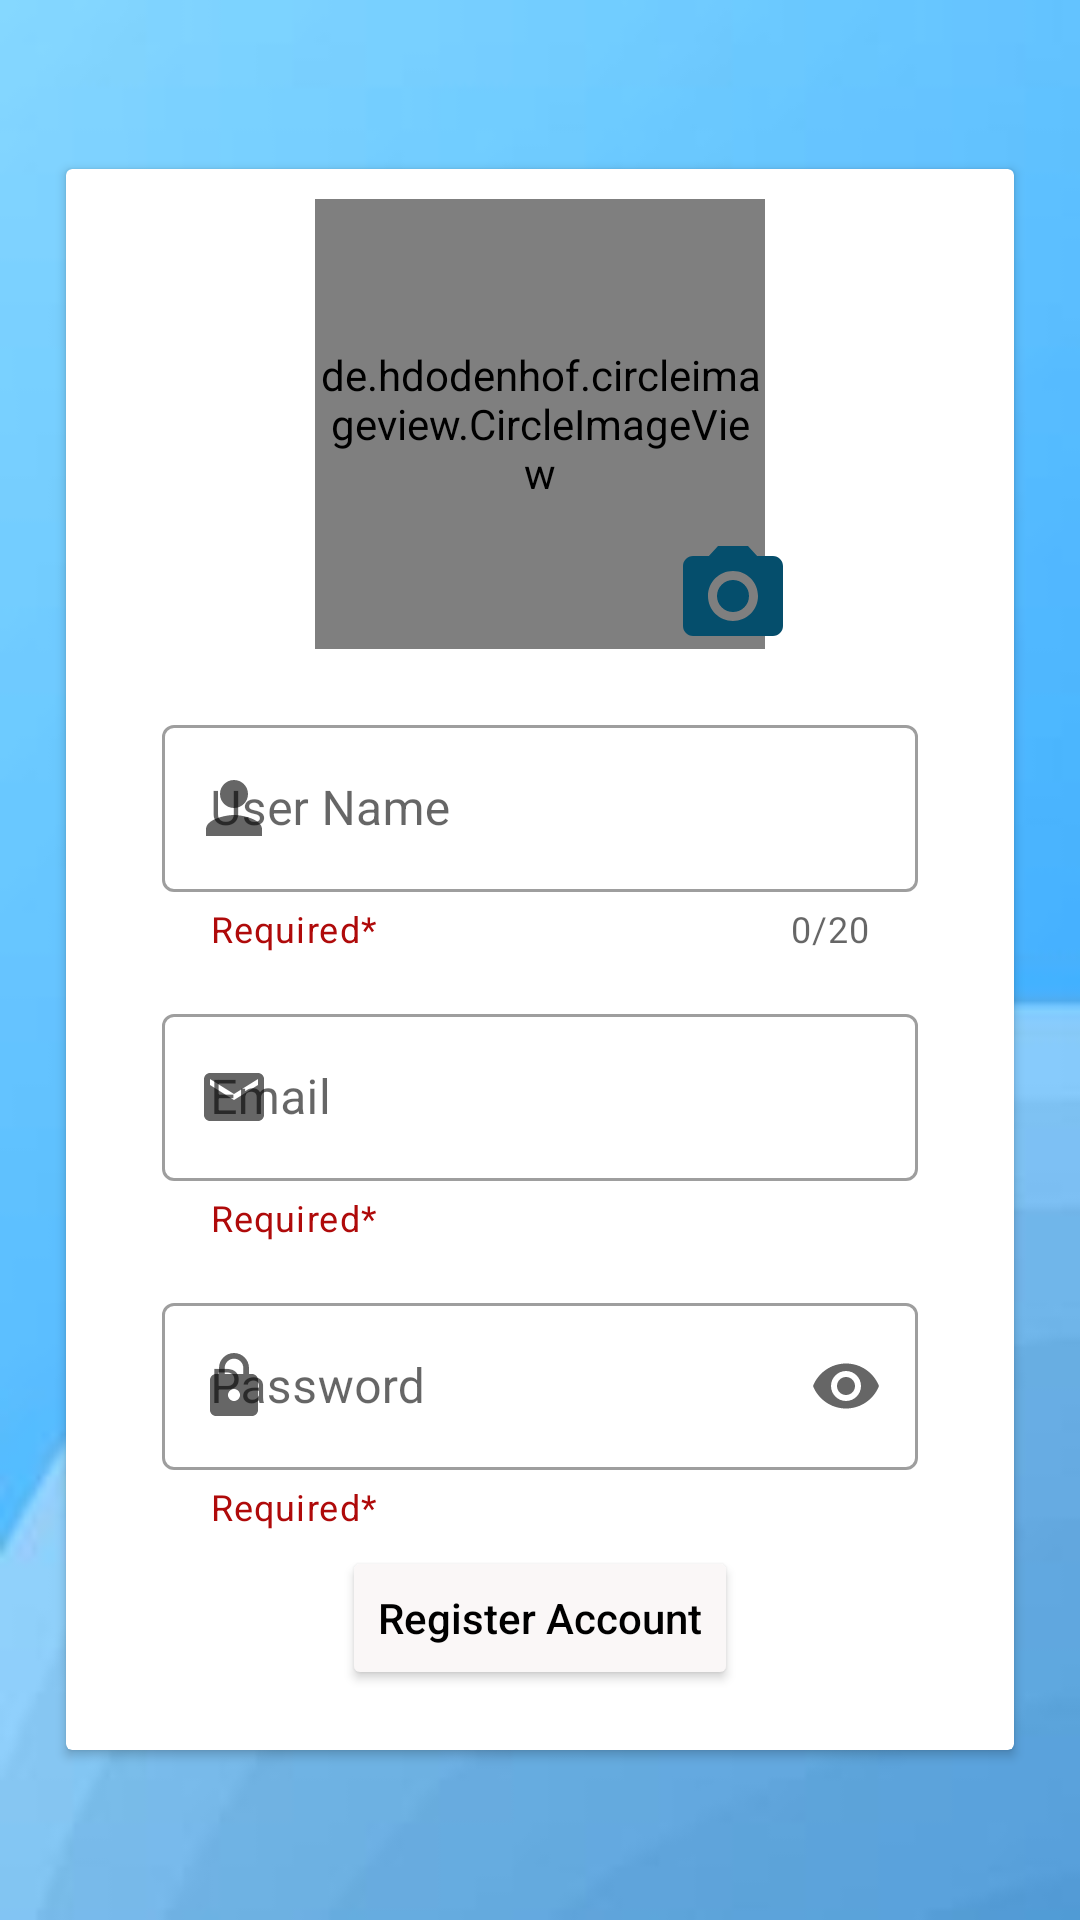

Where to tap for icons on this 1080 x 1920 app screen, as (x=x, y=y):
camera: (x=733, y=596)
